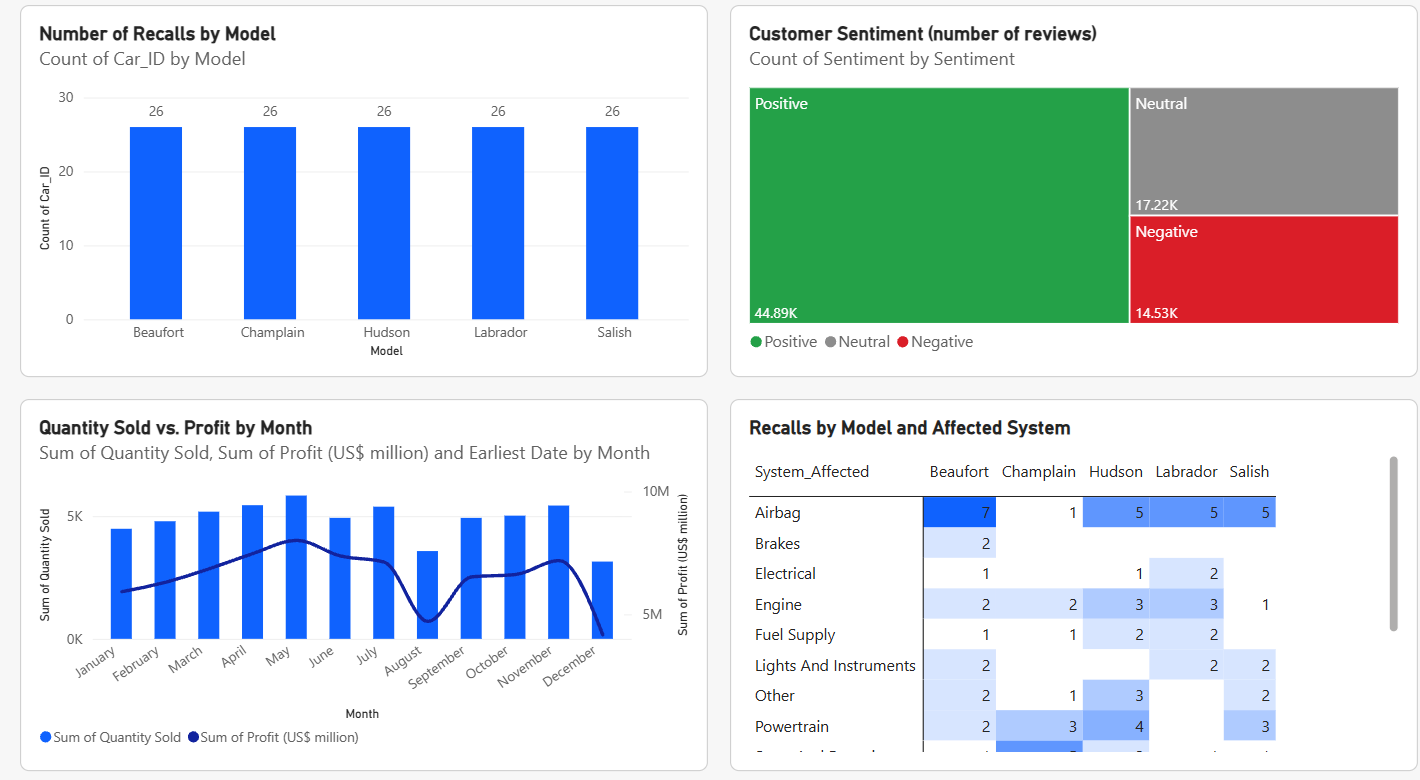

The dashboard page shown, as its layout file describes it:
{"tool":"powerbi","page":{"name":"Service","canvas":[1280,720],"ordinal":1},"visuals":[{"type":"clusteredColumnChart","title":"Number of Recalls by Model","fields":{"Category":["car_recalls.Model"],"Y":["CountNonNull(car_recalls.Car_ID)"]},"box":[20,20,610,330],"z":0},{"type":"treemap","title":"Customer Sentiment (number of reviews)","fields":{"Group":["sentiment.Sentiment"],"Values":["CountNonNull(sentiment.Sentiment)"]},"box":[650,20,610,330],"z":1000},{"type":"lineClusteredColumnComboChart","title":"Quantity Sold vs. Profit by Month","fields":{"Category":["sales_by_model.Month"],"Y":["Sum(sales_by_model.Quantity Sold)"],"Y2":["Sum(sales_by_model.Profit)"]},"box":[20,370,610,330],"z":2000},{"type":"pivotTable","title":"Recalls by Model and Affected System","fields":{"Columns":["car_recalls.Model"],"Rows":["car_recalls.System_Affected"],"Values":["CountNonNull(car_recalls.Car_ID)"]},"box":[650,370,610,330],"z":3000}]}

Visuals, with their boxes in screenshot pixels (x1, y1, x2, y2), scaled from the page's 1280x720 canvas onto the 1420x780 screenshot:
"Number of Recalls by Model" clusteredColumnChart: 22, 22, 699, 379
"Customer Sentiment (number of reviews)" treemap: 721, 22, 1398, 379
"Quantity Sold vs. Profit by Month" lineClusteredColumnComboChart: 22, 401, 699, 758
"Recalls by Model and Affected System" pivotTable: 721, 401, 1398, 758
